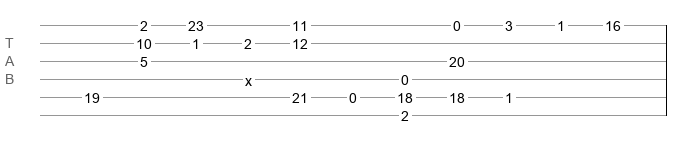0: (349, 90, 357, 100), (401, 72, 409, 82), (453, 18, 461, 28)
1: (192, 36, 200, 46), (505, 90, 513, 100), (557, 18, 565, 28)
10: (136, 36, 152, 46)
11: (292, 18, 308, 28)
12: (292, 36, 308, 46)
16: (605, 18, 621, 28)
18: (397, 90, 413, 100), (449, 90, 465, 100)
19: (84, 90, 100, 100)
2: (140, 18, 148, 28), (244, 36, 252, 46), (401, 108, 409, 118)
20: (449, 54, 465, 64)
21: (292, 90, 308, 100)
23: (188, 18, 204, 28)
3: (505, 18, 513, 28)
5: (140, 54, 148, 64)
x: (245, 73, 252, 81)
